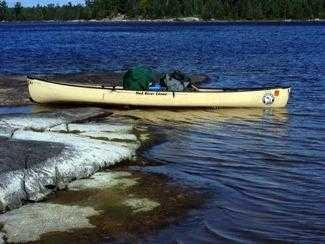kayak: (27, 73, 294, 111)
